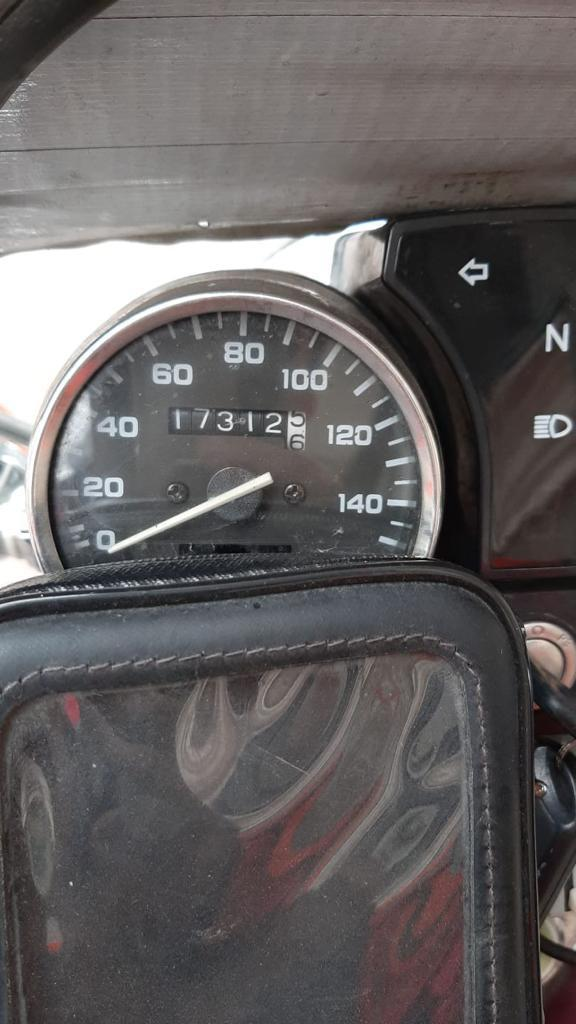1: (244, 408, 259, 438), (171, 408, 182, 431)
2: (264, 410, 284, 438)
3: (217, 409, 235, 433)
5: (289, 407, 307, 427)
6: (289, 433, 306, 450)
7: (192, 405, 211, 430)
odometer: (160, 401, 317, 456)
